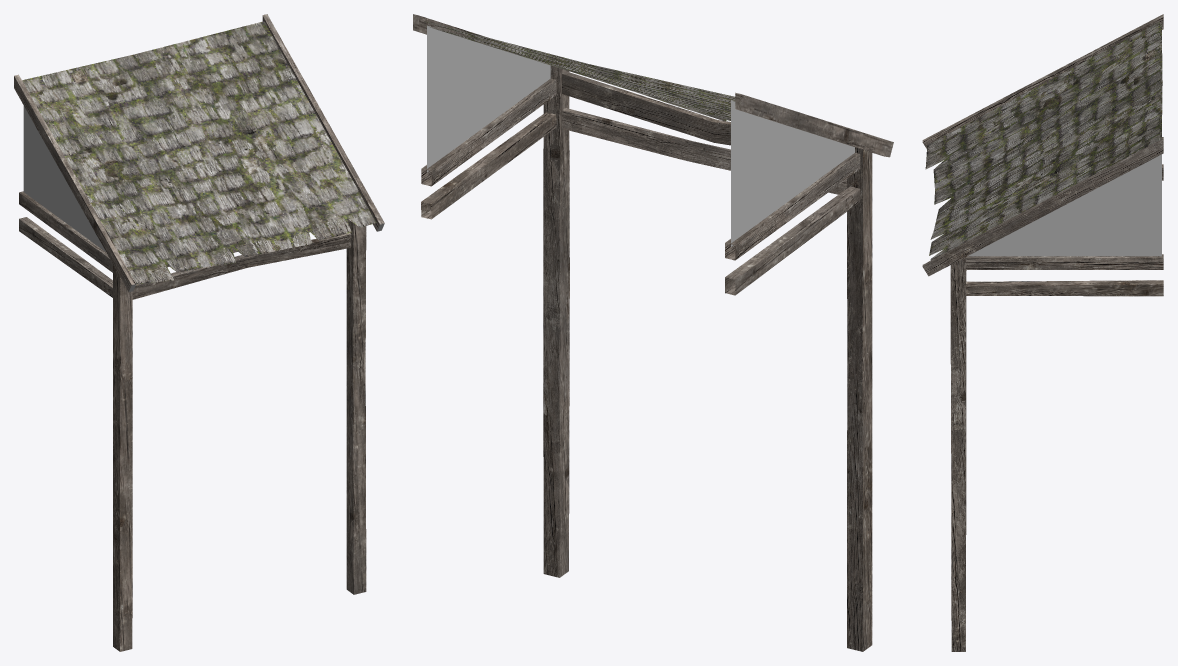
Rendered from Shed4_LOD1.fbx.
3 views of the same model, side by side, from view 1: azimuth 30°, elevation 25°; view 2: azimuth 150°, elevation 25°; view 3: azimuth 270°, elevation 25° (orthographic). The views are drawn at different scales.
Parts seen in each view (by area): view 1: polySurface285; view 2: polySurface285; view 3: polySurface285.
Part boxes in pixels (x1,y1,x2,y2): polySurface285: (14, 14, 384, 651); polySurface285: (413, 14, 893, 651); polySurface285: (922, 14, 1163, 651).
Size of the model in its own units: 3.13 by 5.92 by 2.52.
